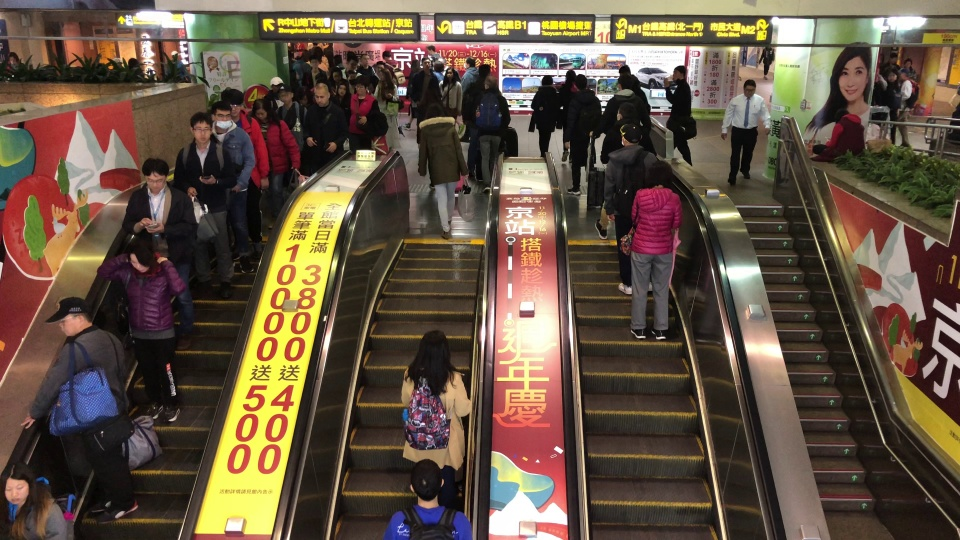person_head: (2, 460, 34, 505), (58, 295, 92, 336), (409, 458, 442, 500), (417, 329, 451, 361), (140, 156, 169, 192), (126, 237, 154, 272), (187, 110, 213, 143), (648, 159, 673, 187), (223, 88, 245, 117), (209, 100, 232, 127), (620, 123, 642, 146), (312, 81, 331, 107), (252, 97, 271, 121), (615, 102, 636, 119), (424, 101, 444, 117), (672, 64, 687, 82), (334, 78, 348, 96), (279, 84, 293, 102), (616, 74, 632, 89), (834, 107, 850, 122), (742, 78, 756, 95), (884, 65, 898, 81), (574, 73, 587, 90), (477, 63, 491, 78), (355, 78, 369, 92), (345, 53, 358, 68), (270, 76, 283, 90), (484, 74, 497, 88), (378, 68, 391, 81), (308, 54, 320, 68), (540, 74, 554, 86), (359, 52, 370, 67), (617, 64, 632, 75), (346, 69, 356, 85), (331, 67, 343, 80), (463, 55, 476, 67), (445, 65, 455, 80), (7, 52, 19, 64), (564, 68, 576, 80), (375, 60, 385, 74), (127, 56, 138, 68), (421, 56, 431, 69), (111, 57, 123, 67), (409, 58, 419, 70), (426, 43, 436, 55), (903, 56, 912, 68), (381, 50, 392, 59), (888, 51, 897, 62), (170, 50, 179, 59), (333, 54, 341, 64), (295, 51, 302, 59)
person_vbox: (19, 295, 140, 526), (96, 237, 187, 423), (119, 156, 198, 350), (172, 110, 239, 302), (400, 329, 471, 501), (629, 159, 684, 340), (603, 123, 656, 296), (221, 87, 270, 260), (592, 102, 651, 239), (210, 99, 255, 273), (380, 457, 473, 539), (415, 101, 468, 241), (251, 96, 301, 230), (720, 78, 771, 185), (1, 459, 67, 540), (561, 73, 602, 196), (600, 75, 653, 163), (475, 73, 511, 194), (303, 81, 346, 168), (461, 63, 492, 180), (663, 64, 694, 166), (410, 56, 442, 148), (811, 106, 866, 156), (346, 77, 380, 152), (373, 68, 403, 151), (530, 74, 559, 158), (274, 84, 308, 152), (459, 56, 479, 142), (559, 69, 577, 163), (399, 59, 420, 131), (884, 65, 902, 146), (438, 65, 462, 119), (165, 49, 191, 80), (380, 49, 400, 84), (755, 45, 775, 79), (307, 54, 326, 86), (339, 53, 361, 80), (878, 50, 901, 74), (334, 79, 350, 113), (329, 67, 350, 92), (292, 50, 310, 79), (426, 45, 444, 70), (359, 52, 374, 76), (901, 56, 916, 78)
